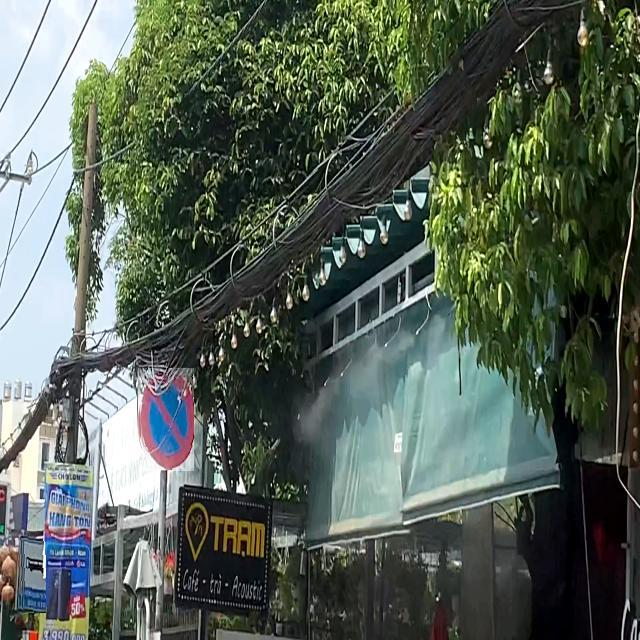P-131a: (138, 368, 194, 471)
R-434: (16, 533, 46, 613)
